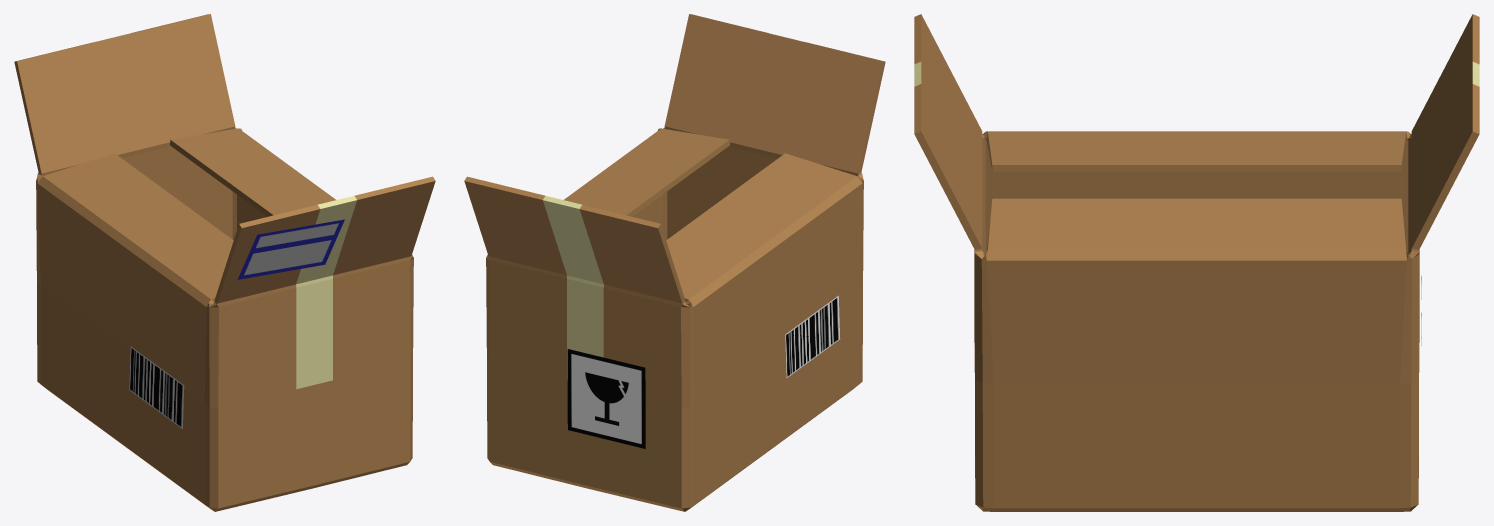
File: Cardboard.014.gltf
3 views of the same model, side by side, from view 1: azimuth 30°, elevation 25°; view 2: azimuth 150°, elevation 25°; view 3: azimuth 270°, elevation 25° (orthographic). The views are drawn at different scales.
Visible parts, largest first — view 1: Cardboard.014, BlueSticker.007, codeBArre.009; view 2: Cardboard.014, sign4.008, codeBArre.009; view 3: Cardboard.014.
Boxes of the visible parts, x1,y1,x2,y2 form: Cardboard.014: (14,14,435,511); BlueSticker.007: (237,219,344,279); codeBArre.009: (129,346,184,428); Cardboard.014: (464,14,885,511); sign4.008: (567,349,645,448); codeBArre.009: (785,295,840,377); Cardboard.014: (914,14,1479,511).
Size of the model in its own units: 0.3892 by 0.5533 by 0.743.
Materials: 5 (3 with a texture image).
